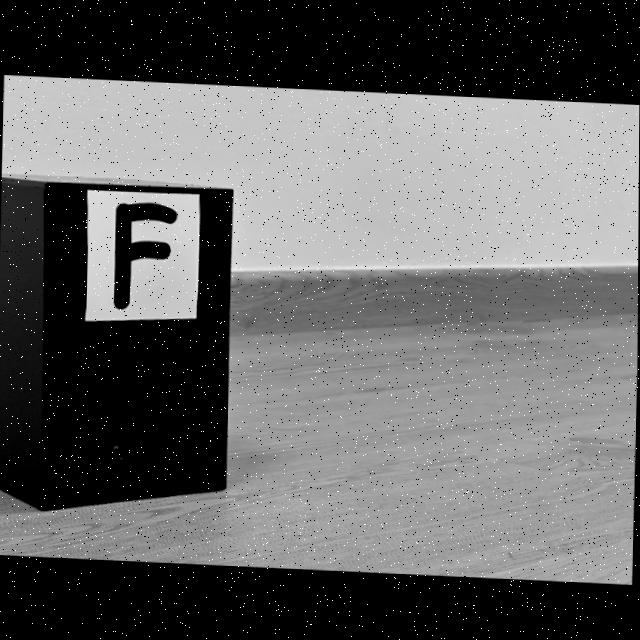F: (114, 201, 177, 308)
